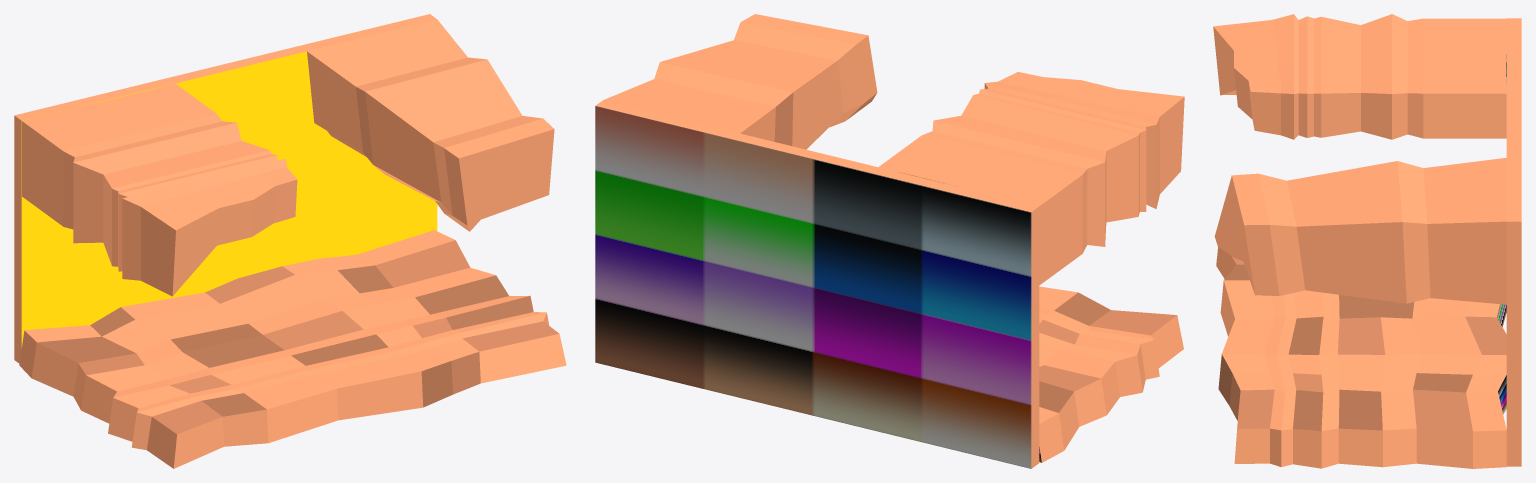
Rendered from row1col1.glb.
3 renders of one model, left to right at view 1: azimuth 30°, elevation 25°; view 2: azimuth 150°, elevation 25°; view 3: azimuth 270°, elevation 25°, orthographic. The views are drawn at different scales.
Visible parts, largest first — view 1: Earth; view 2: Earth; view 3: Earth.
Part boxes in pixels (<box>): Earth: <box>14,14,566,468</box>; Earth: <box>595,14,1184,468</box>; Earth: <box>1213,14,1521,468</box>.
Bounding box in the file's own units: 33.11 × 18.23 × 20.53.
Materials: 1 (1 with a texture image).
